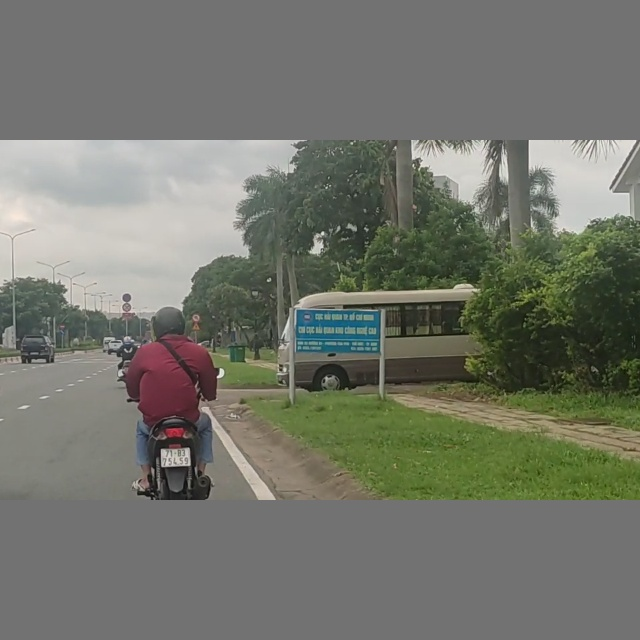P.102: (59, 323, 66, 329)
P.111: (122, 303, 132, 312)
P.124a*: (192, 313, 201, 323)
P.130: (123, 293, 131, 302)
R.302a: (59, 329, 66, 335)
W.224: (191, 323, 201, 331)
